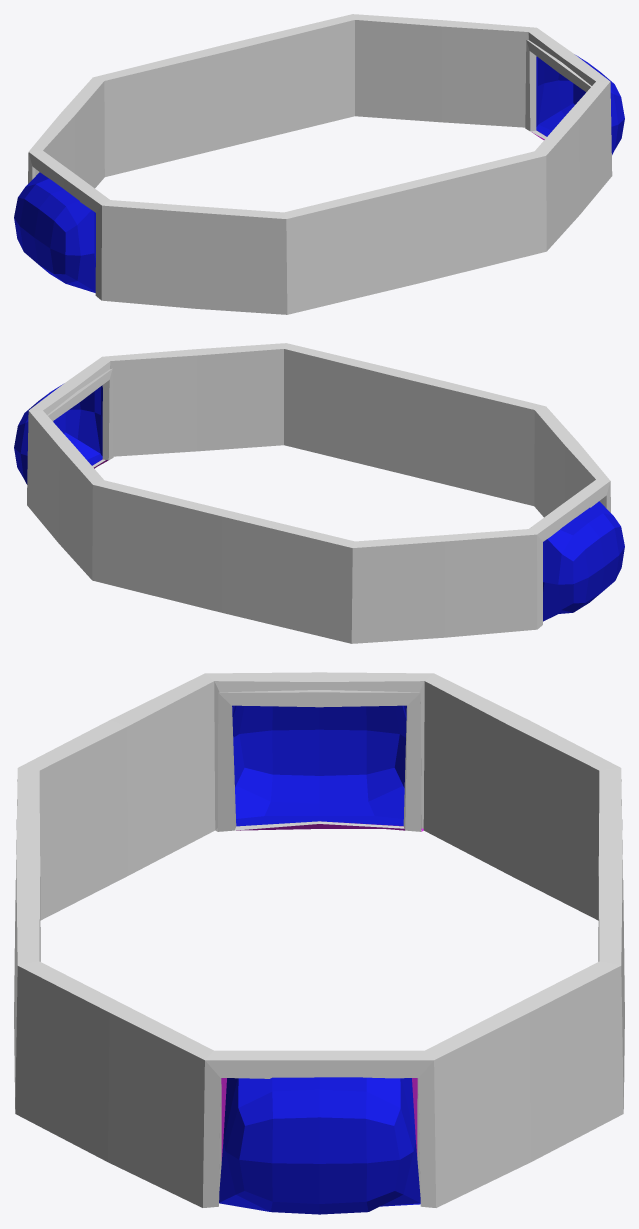
File: Octogone5.fbx
3 renders of one model, top to bottom at view 1: azimuth 30°, elevation 25°; view 2: azimuth 150°, elevation 25°; view 3: azimuth 270°, elevation 25°, orthographic. The views are drawn at different scales.
Visible parts, largest first — view 1: octogone, goal; view 2: octogone, goal; view 3: octogone, goal.
Boxes of the visible parts, left/top/right/bottom form: octogone: left=28, top=14, right=612, bottom=314; goal: left=14, top=55, right=624, bottom=292; octogone: left=27, top=343, right=610, bottom=643; goal: left=14, top=384, right=624, bottom=621; octogone: left=14, top=672, right=624, bottom=1207; goal: left=219, top=705, right=420, bottom=1214.
Size of the model in its own units: 84.91 by 13.69 by 50.5.
